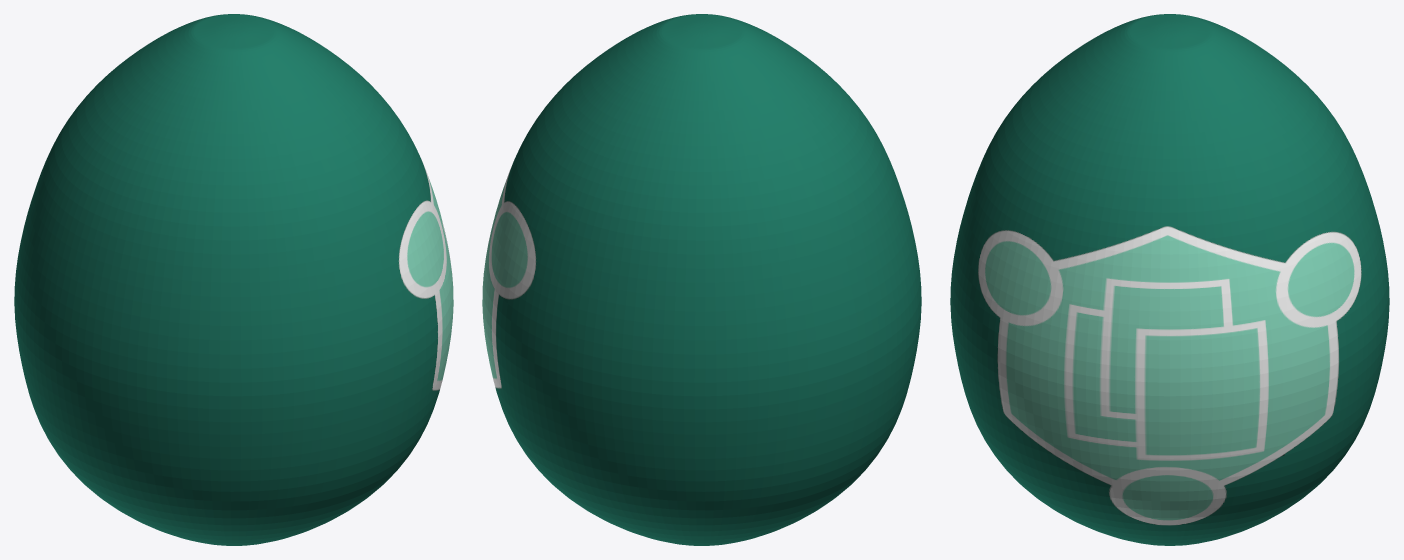
Rendered from egg_uvsphere.glb.
3 renders of one model, left to right at view 1: azimuth 30°, elevation 25°; view 2: azimuth 150°, elevation 25°; view 3: azimuth 270°, elevation 25°, orthographic.
Parts seen in each view (by area): view 1: Sphere; view 2: Sphere; view 3: Sphere.
Part boxes in pixels (left/top/right/bottom): Sphere: left=14, top=14, right=453, bottom=545; Sphere: left=482, top=14, right=921, bottom=545; Sphere: left=950, top=14, right=1389, bottom=545.
Size of the model in its own units: 0.8138 by 1.03 by 0.8138.
Materials: 1 (1 with a texture image).
